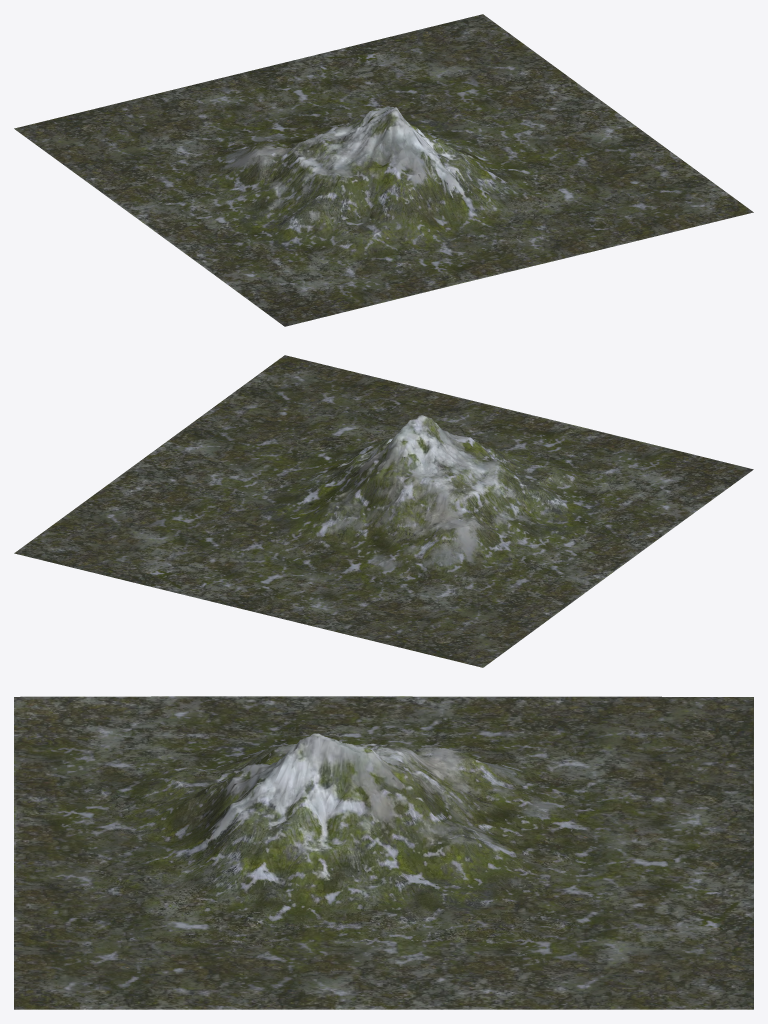
3 views of the same model, one above another, from view 1: azimuth 30°, elevation 25°; view 2: azimuth 150°, elevation 25°; view 3: azimuth 270°, elevation 25° (orthographic). The views are drawn at different scales.
Size of the model in its own units: 18.82 by 3.09 by 18.82.
1 material, 1 textured.
